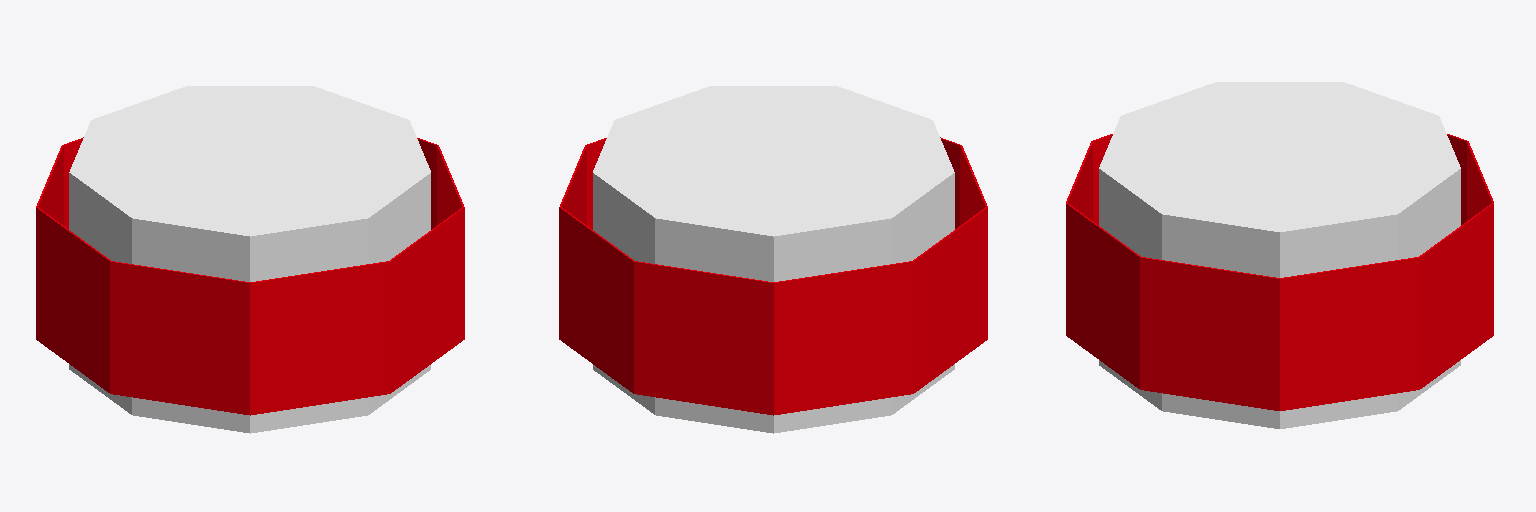
3 views of the same model, side by side, from view 1: azimuth 30°, elevation 25°; view 2: azimuth 150°, elevation 25°; view 3: azimuth 270°, elevation 25° (orthographic).
Parts seen in each view (by area): view 1: Level_Models:pPipe5; view 2: Level_Models:pPipe5; view 3: Level_Models:pPipe5.
Boxes of the visible parts, x1,y1,x2,y2 form: Level_Models:pPipe5: [36, 86, 464, 433]; Level_Models:pPipe5: [559, 86, 987, 433]; Level_Models:pPipe5: [1066, 82, 1493, 428].
Bounding box in the file's own units: 0.6435 × 0.3312 × 0.6534.
2 materials, 2 textured.